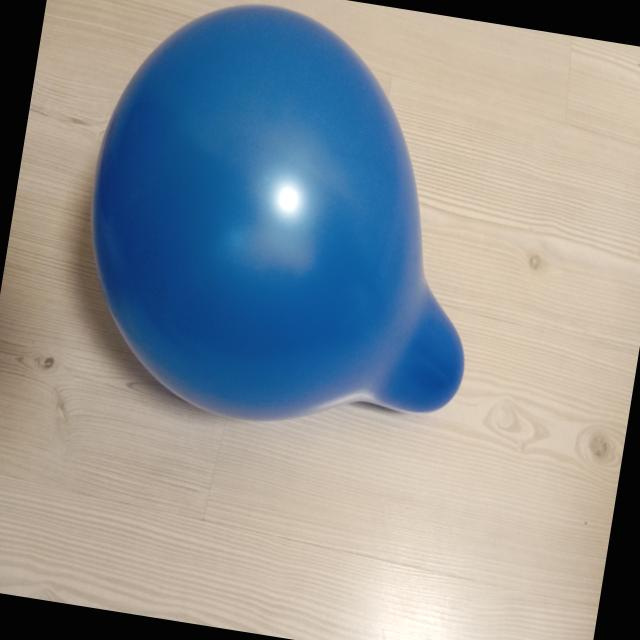balloon: (92, 5, 464, 420)
